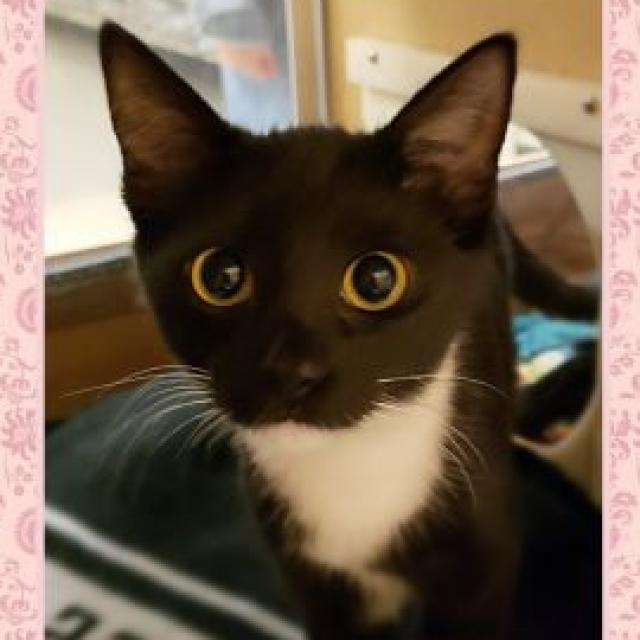Tuxedo: (92, 12, 528, 640)
